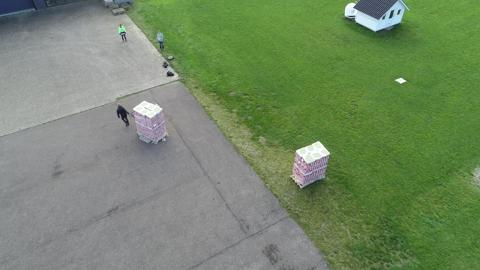RockwoolPallet: (134, 99, 165, 147)
